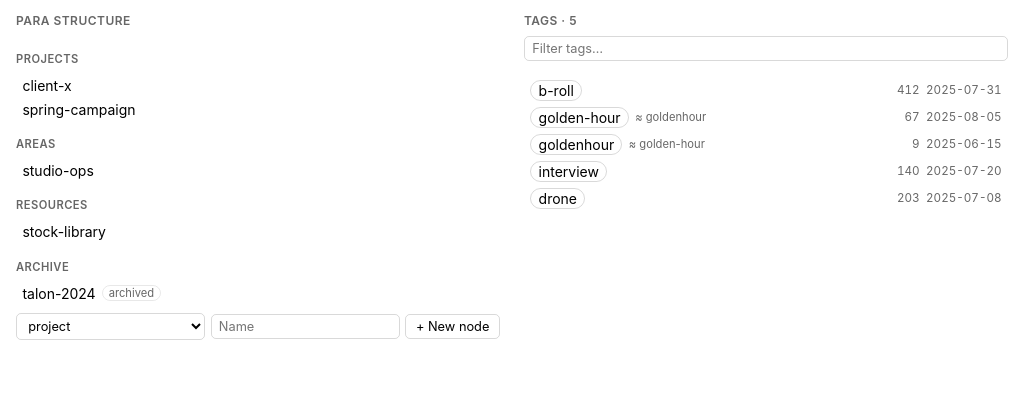
Test case: renaming a tag re-reads the list and reports what was rewritten
Click the button "golden-hour ≈ goldenhour 67 2025-08-05": (580, 117) [524,104,1008,131]
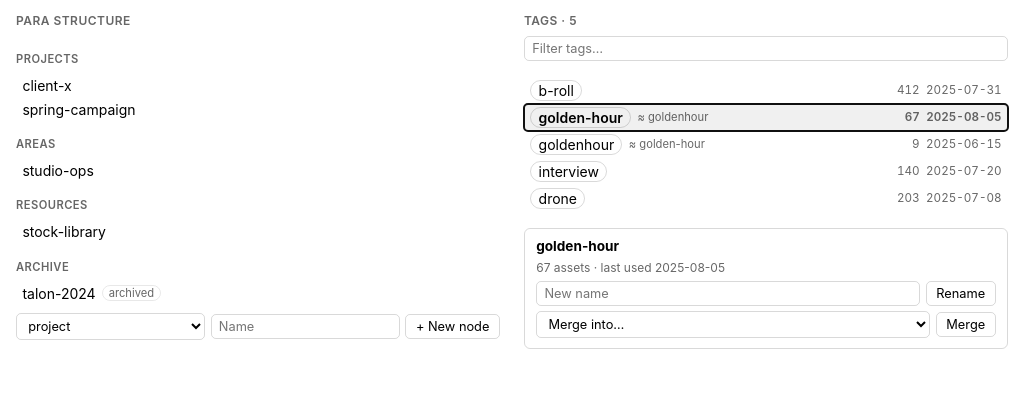
In the field named "New name for this tag": (728, 293) [536,281,920,306], type "golden"
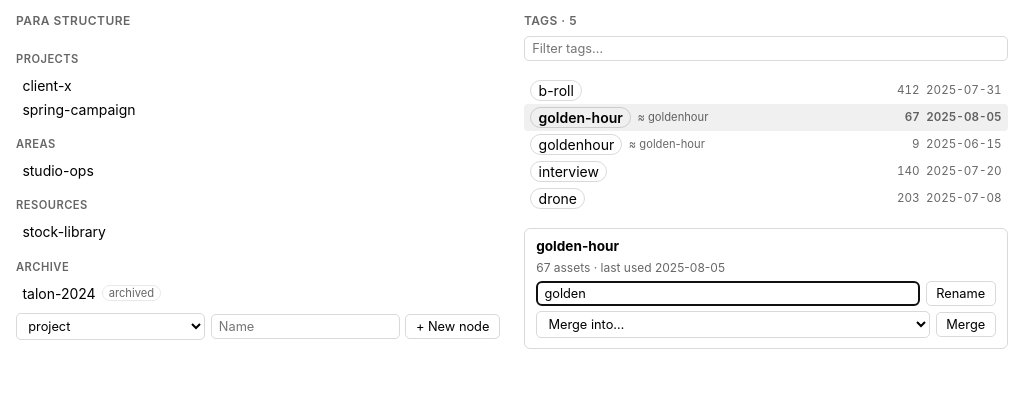
Click the button "Rename": (961, 293) [926,281,996,306]
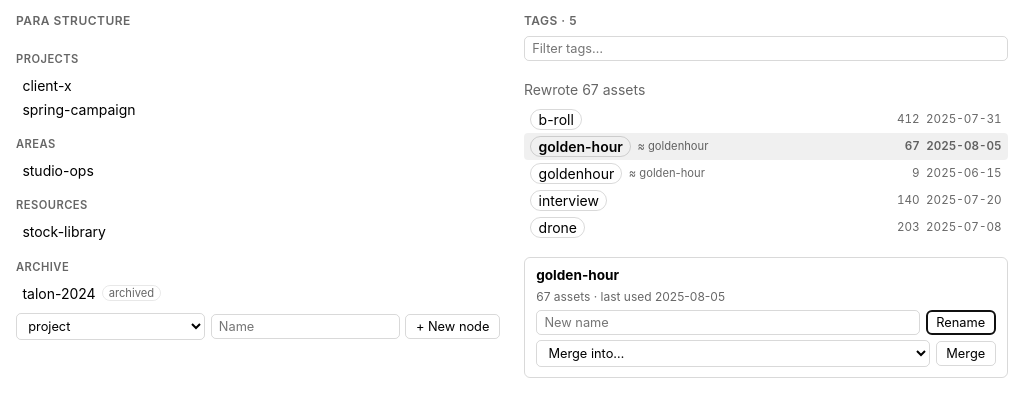
Expected: the text "Rewrote 67 assets" is shown, [524,81,645,98]
